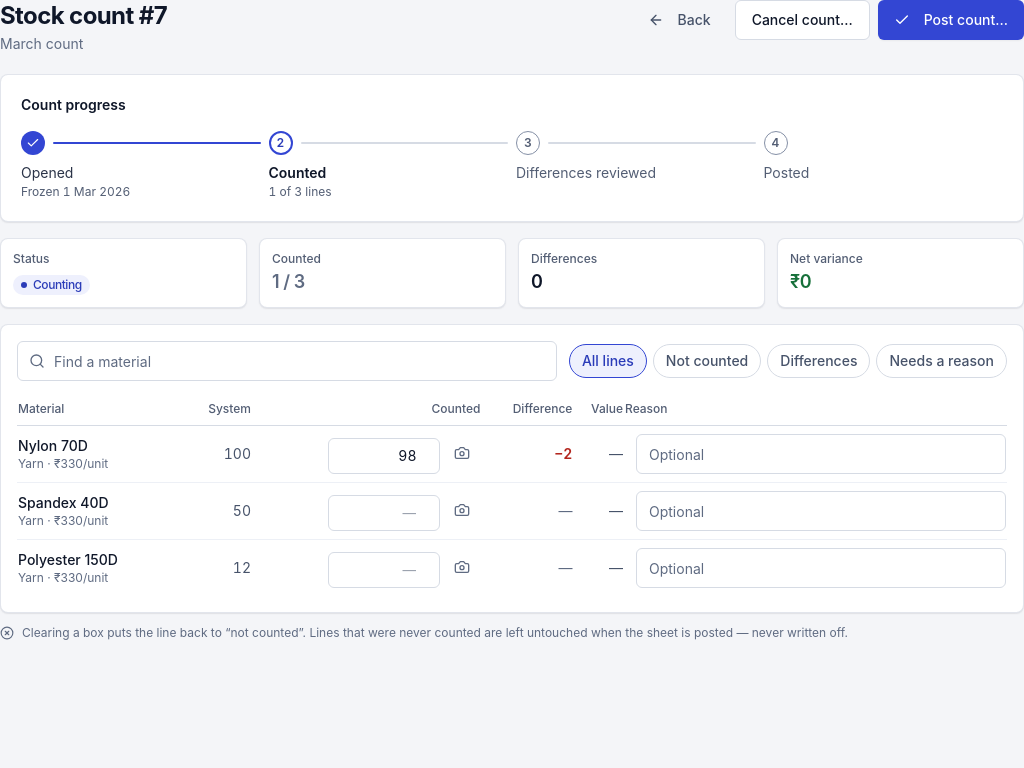
Test: posting asks first, with the lines it leaves out › one press of Post sends nothing: it opens a review in a real dialog
Click the button "Post count…" at (951, 20), box [878,0,1023,40]
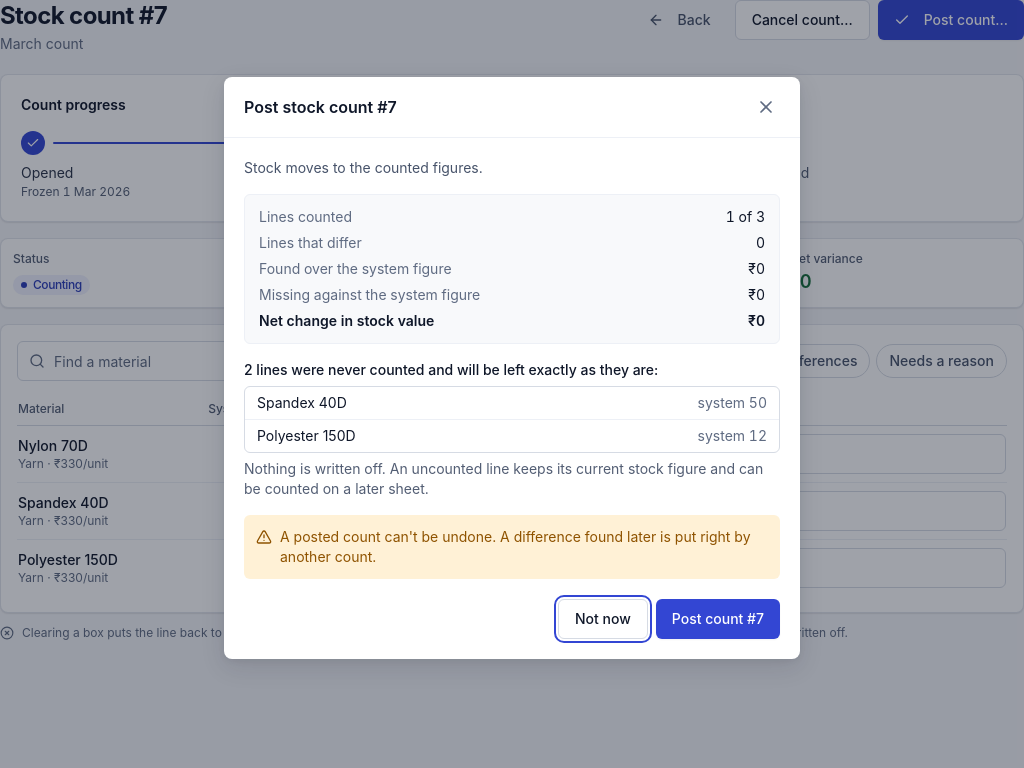
Now the dialog is shown
